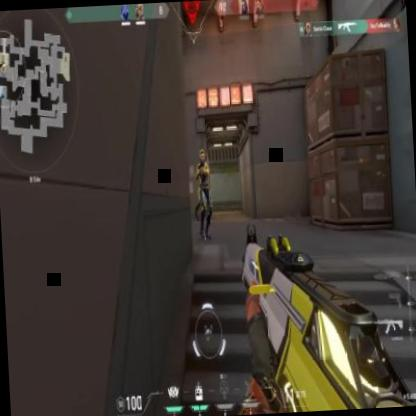enemy: (193, 146, 214, 240)
enemy_head: (199, 149, 205, 163)
